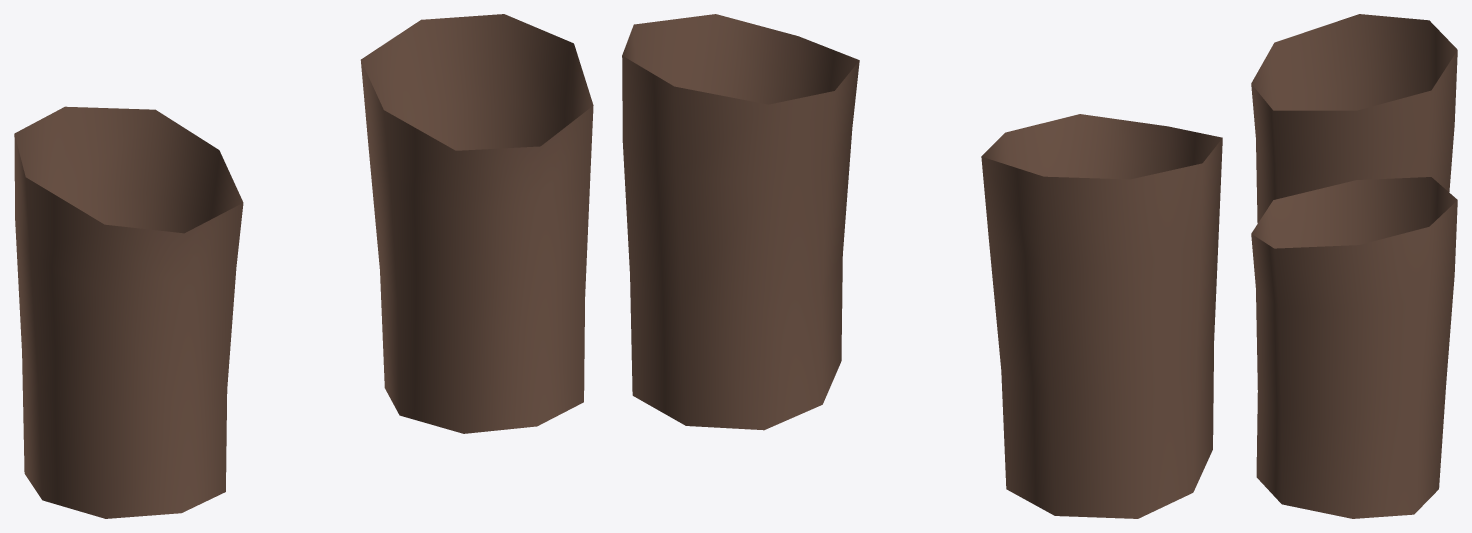
Rendered from Body_Black_LegA_2.fbx.
The picture shows the model from 3 angles, left to right: view 1: azimuth 30°, elevation 25°; view 2: azimuth 150°, elevation 25°; view 3: azimuth 270°, elevation 25°; orthographic projection. The views are drawn at different scales.
Visible parts, largest first — view 1: Body_Black_LegA_2; view 2: Body_Black_LegA_2; view 3: Body_Black_LegA_2.
Boxes of the visible parts, box(x1,y1,x2,y2) form: Body_Black_LegA_2: box(14, 14, 593, 518); Body_Black_LegA_2: box(622, 14, 1222, 518); Body_Black_LegA_2: box(1251, 14, 1457, 518).
Bounding box in the file's own units: 31.33 × 18.38 × 11.84.
